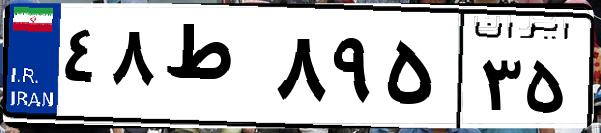3: (475, 38, 525, 113)
4: (57, 26, 110, 100)
5: (385, 28, 445, 110), (525, 38, 570, 115)
8: (270, 28, 330, 110), (110, 28, 158, 98)
9: (330, 28, 385, 110)
ط: (158, 20, 270, 120)
